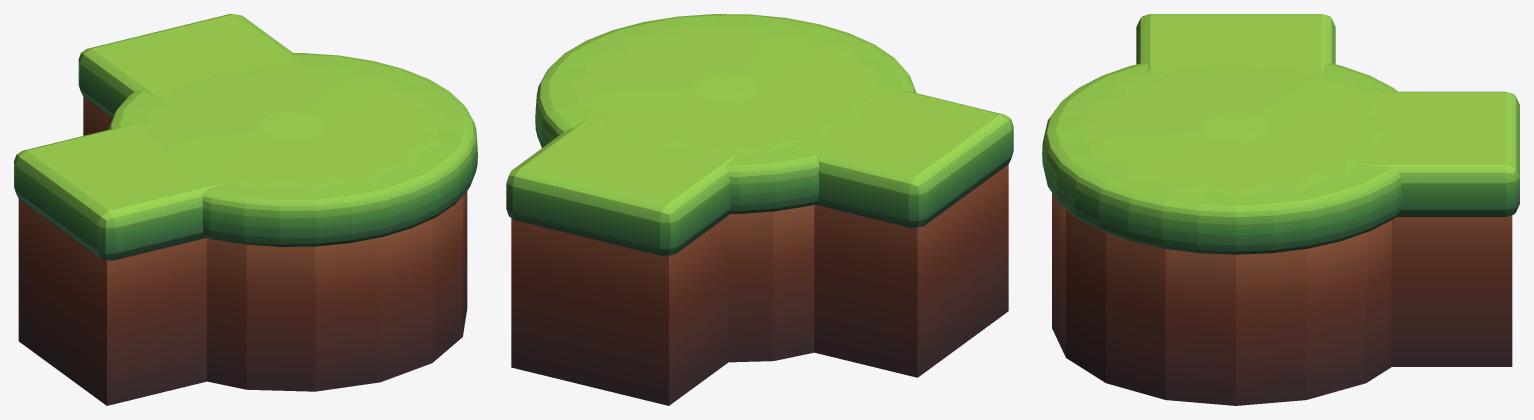
Rendered from round_corner.fbx.
3 views of the same model, side by side, from view 1: azimuth 30°, elevation 25°; view 2: azimuth 150°, elevation 25°; view 3: azimuth 270°, elevation 25° (orthographic). The views are drawn at different scales.
Parts seen in each view (by area): view 1: Cube.008; view 2: Cube.008; view 3: Cube.008.
Boxes of the visible parts, x1,y1,x2,y2 form: Cube.008: [14, 14, 477, 405]; Cube.008: [506, 14, 1013, 405]; Cube.008: [1042, 14, 1519, 405].
Size of the model in its own units: 5.19 by 2.4 by 5.19.
